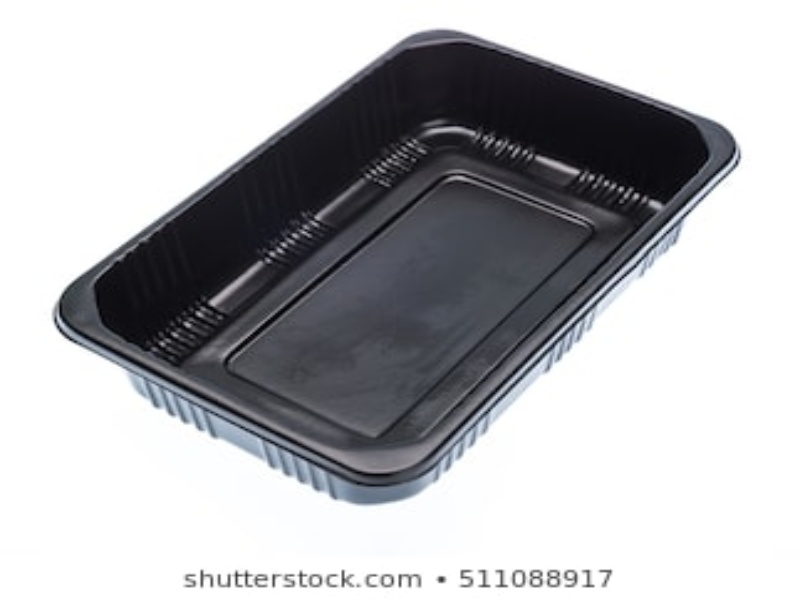plastic-tray: (51, 27, 739, 510)
